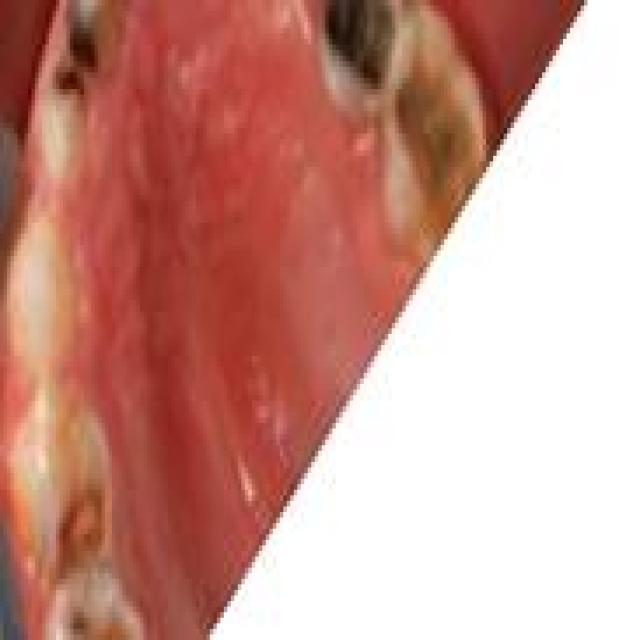caries: (23, 425, 127, 597), (381, 43, 473, 211), (307, 0, 407, 103), (65, 0, 131, 79), (42, 54, 94, 138)
